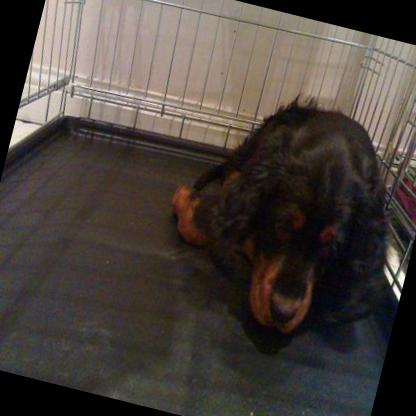Gordon_setter: (145, 74, 416, 354)
